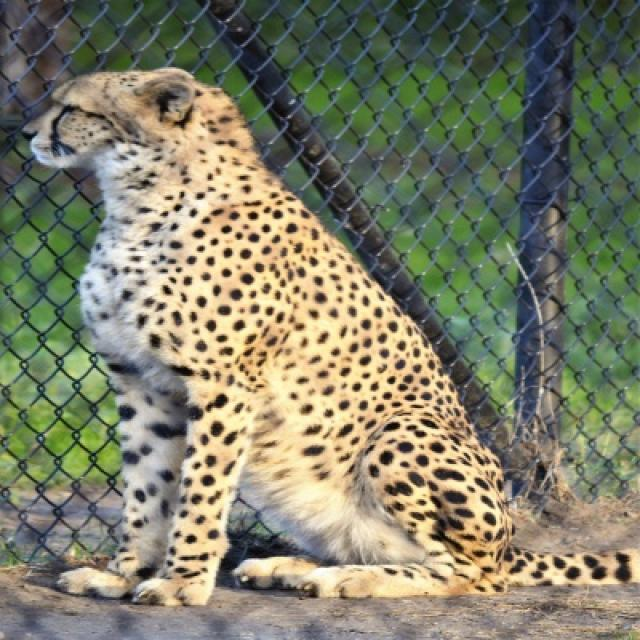Cheetah: (21, 67, 515, 610)
